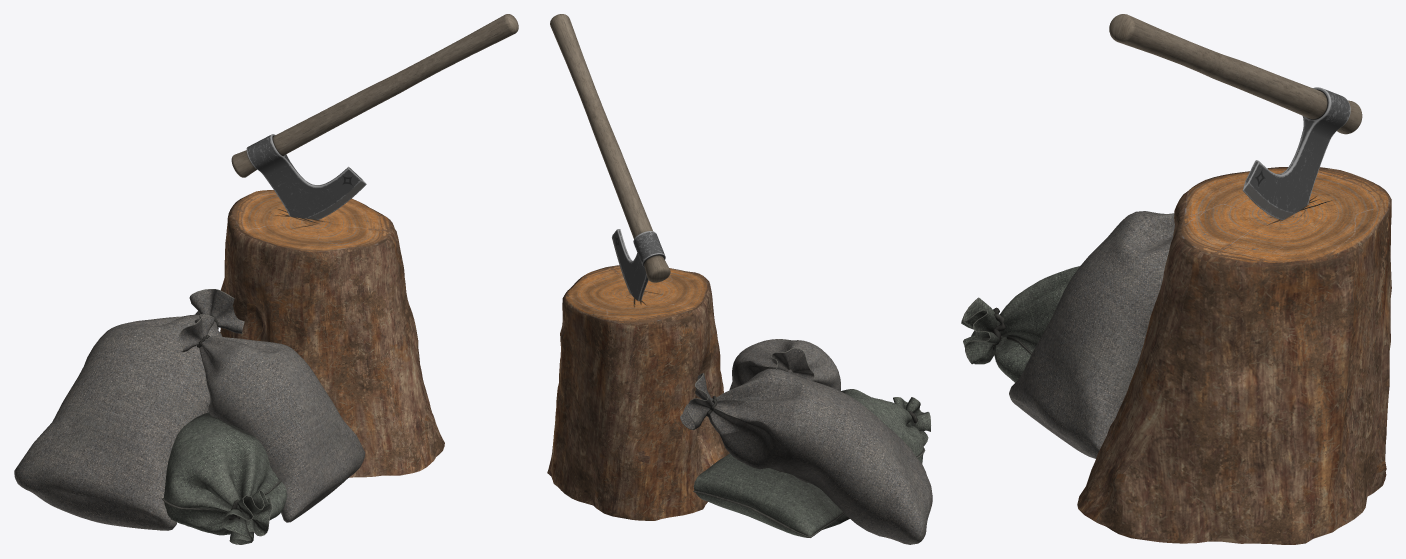
File: axe.glb
The picture shows the model from 3 angles, left to right: view 1: azimuth 30°, elevation 25°; view 2: azimuth 150°, elevation 25°; view 3: azimuth 270°, elevation 25°; orthographic projection. The views are drawn at different scales.
Parts seen in each view (by area): view 1: wood.001, sand_bag_03.001, sand_bag_02.001, sand_bag_01.001, axe.001; view 2: wood.001, sand_bag_03.001, sand_bag_01.001, axe.001, sand_bag_02.001; view 3: wood.001, sand_bag_02.001, axe.001, sand_bag_01.001.
Boxes of the visible parts, box(x1,y1,x2,y2) form: wood.001: box(220, 190, 444, 477); sand_bag_03.001: box(14, 289, 244, 530); sand_bag_02.001: box(179, 314, 365, 522); sand_bag_01.001: box(162, 412, 286, 544); axe.001: box(231, 14, 518, 219); wood.001: box(547, 265, 729, 520); sand_bag_03.001: box(680, 368, 932, 544); sand_bag_01.001: box(693, 389, 930, 537); axe.001: box(550, 14, 670, 300); sand_bag_02.001: box(729, 339, 840, 391); wood.001: box(1077, 167, 1391, 544); sand_bag_02.001: box(1009, 211, 1174, 458); axe.001: box(1109, 14, 1362, 220); sand_bag_01.001: box(961, 266, 1079, 382).
Size of the model in its own units: 1.11 by 1.03 by 0.6878.
3 materials, 3 textured.
